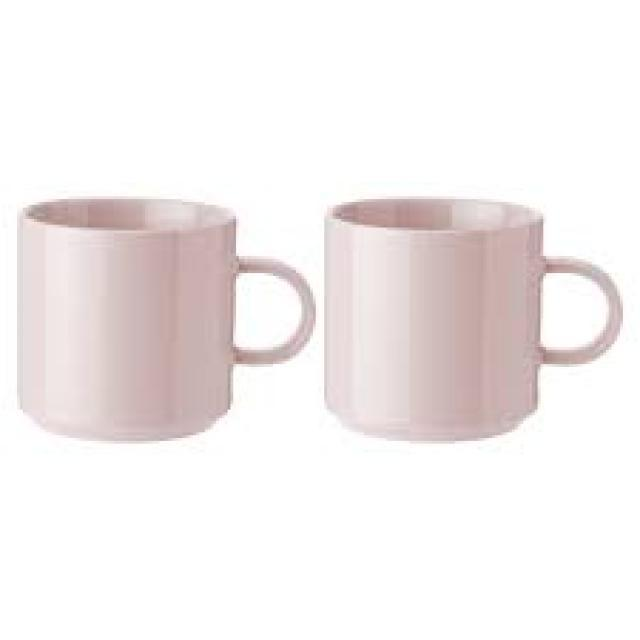taza: (15, 195, 318, 444), (323, 196, 624, 444)
